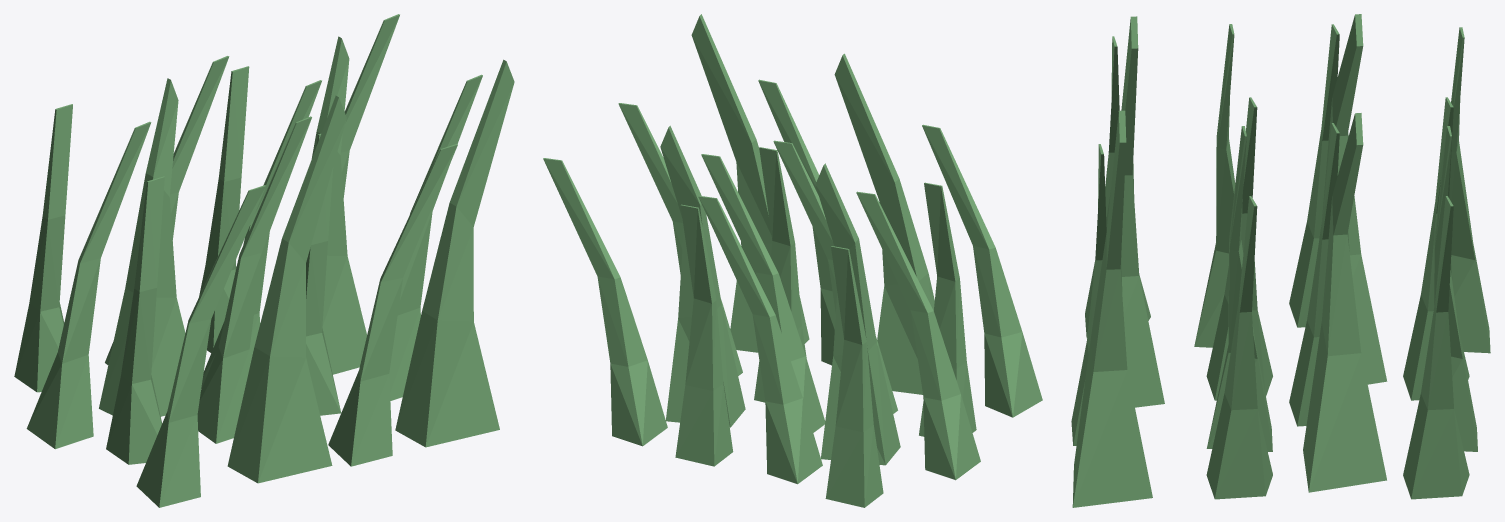
Rendered from Grass.fbx.
3 renders of one model, left to right at view 1: azimuth 30°, elevation 25°; view 2: azimuth 150°, elevation 25°; view 3: azimuth 270°, elevation 25°, orthographic. The views are drawn at different scales.
Parts seen in each view (by area): view 1: Grass_patch; view 2: Grass_patch; view 3: Grass_patch.
Boxes of the visible parts, x1,y1,x2,y2 form: Grass_patch: [14, 14, 514, 507]; Grass_patch: [543, 14, 1042, 507]; Grass_patch: [1071, 14, 1490, 507].
Bounding box in the file's own units: 261 × 210 × 193.
